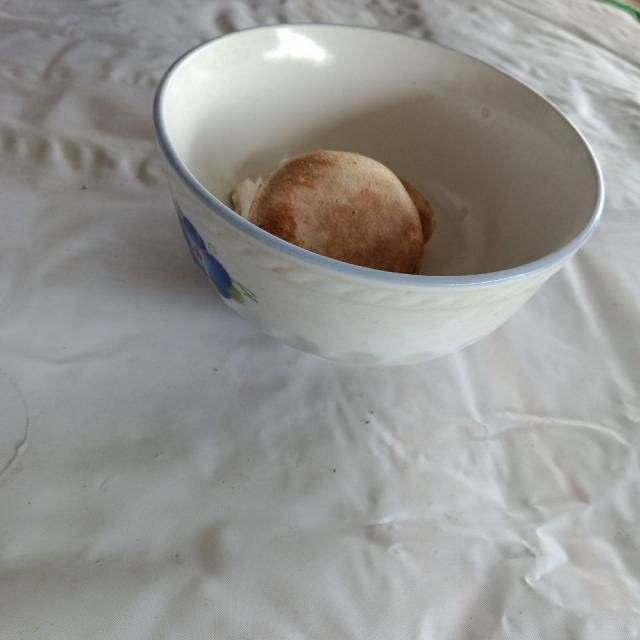Pleurotus cystidiosus: (235, 154, 435, 273)
